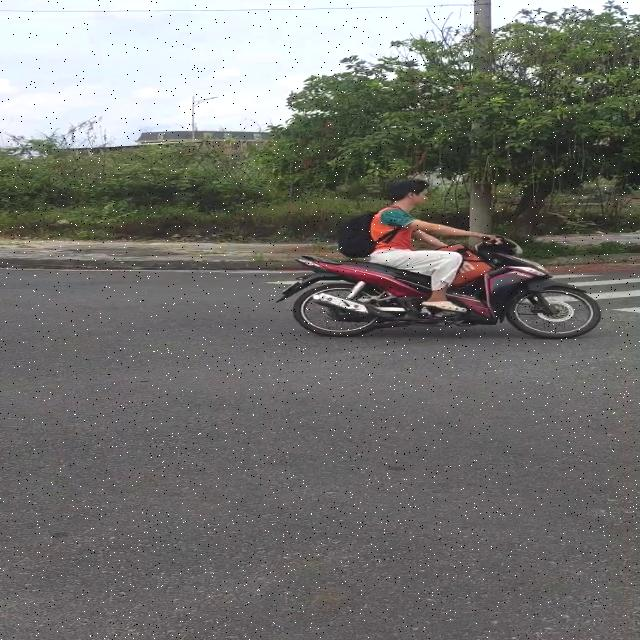no_helmet: (388, 171, 438, 211)
